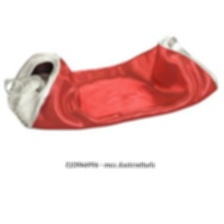can: (2, 26, 219, 133)
